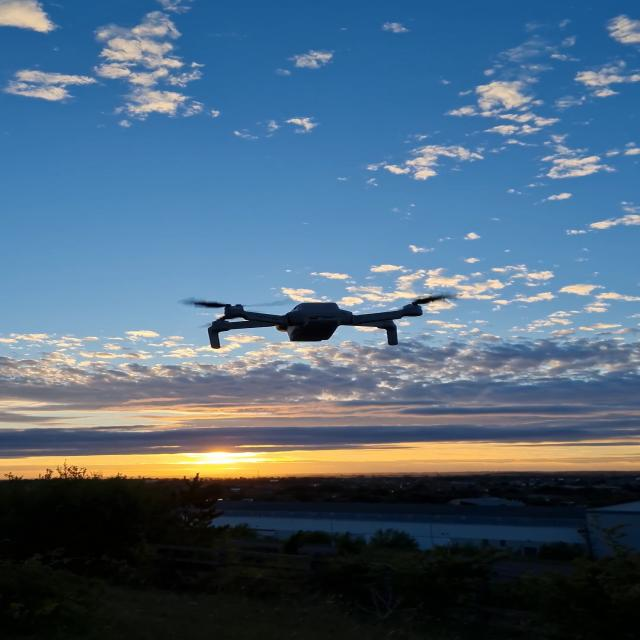Drone: (203, 283, 470, 377)
